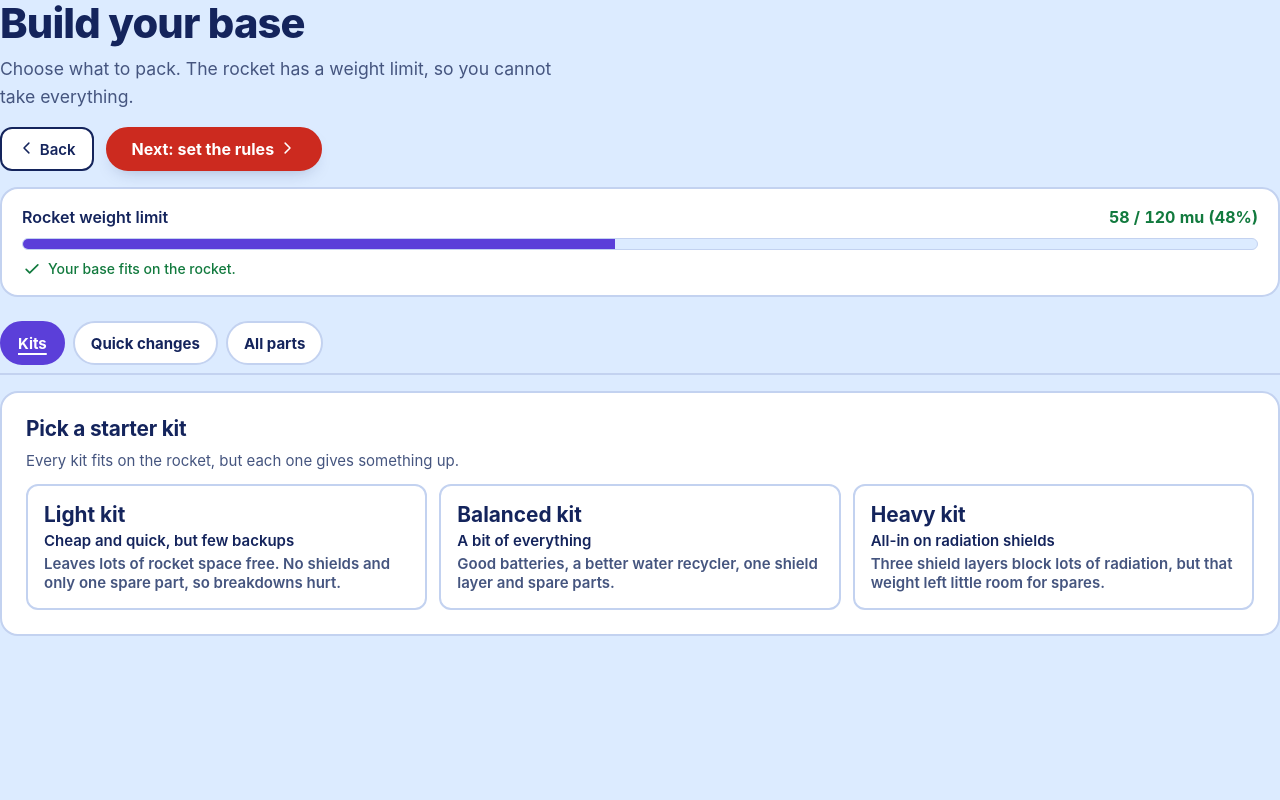
Test: DesignScreen (L6 AC1, AC2, AC5, AC6) › L11 AC3: Junior shows three starter kits and four items; kits load their designs
Step 1. Click the button "Heavy kit" → (1053, 547), box [853,484,1254,610]
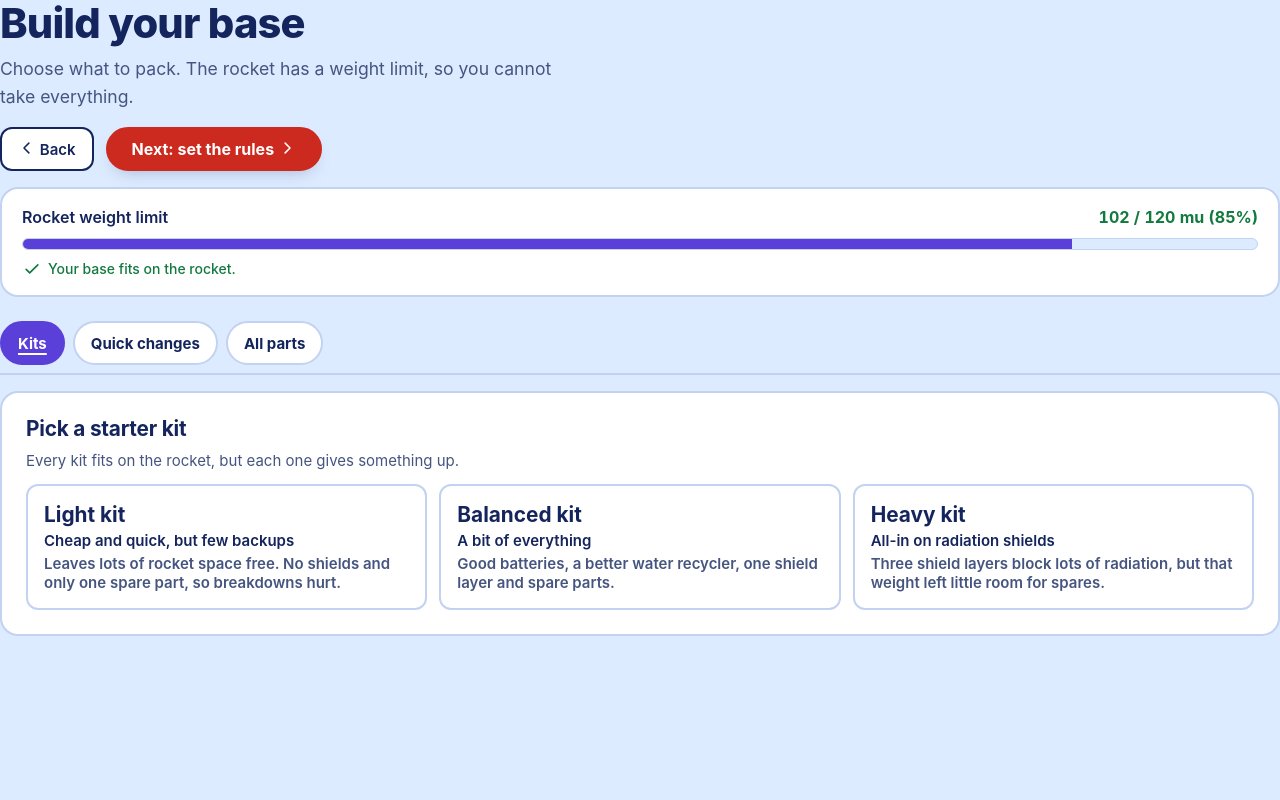
Step 2. Click the tab "Quick changes" → (145, 343), box [73,321,218,365]
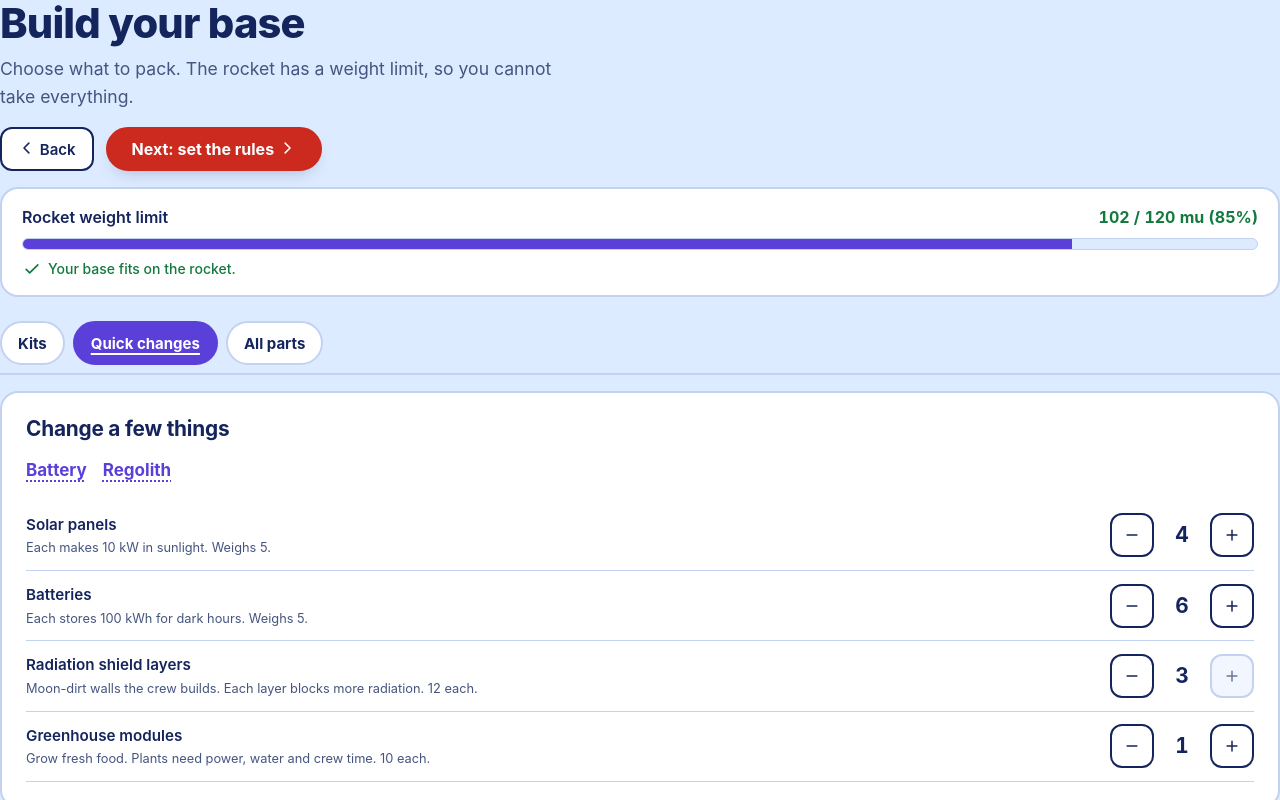
Expected: the tab "All parts" is shown, [226,321,323,365]
Result: the number of buttons named "Increase " is 4 at [1210,513,1254,557]; [1210,584,1254,628]; [1210,654,1254,698]; [1210,724,1254,768]
